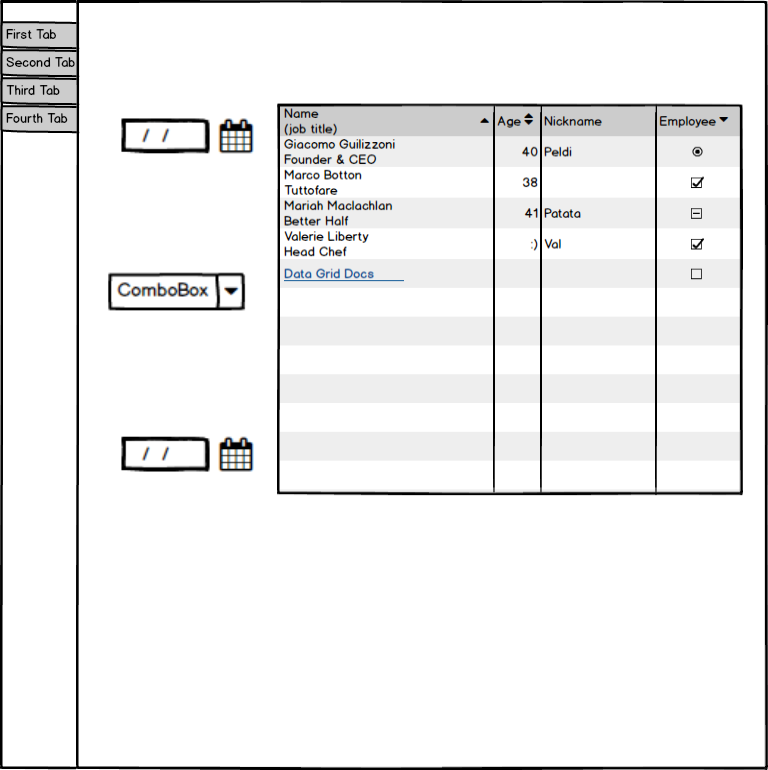date_picker: (112, 106, 259, 160), (111, 430, 259, 480)
select_box: (103, 269, 251, 314)
sidebar: (1, 16, 83, 139)
table: (272, 95, 749, 501)
